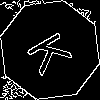K: (25, 25, 82, 77)
